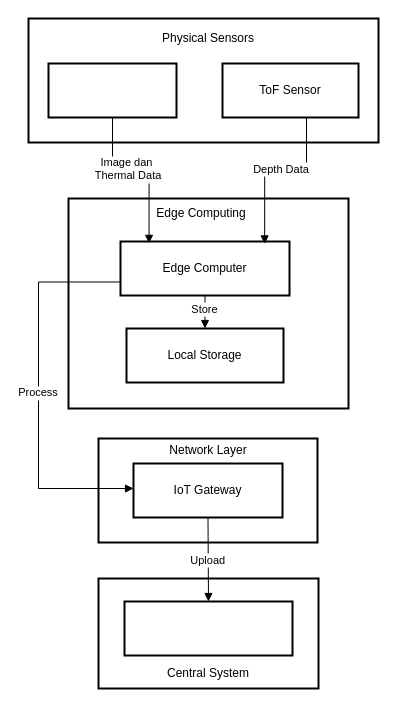
This 396x706 diagram has some shape labels left out. The shapes that lost their labels are listed below. From the top down, each one's box as (x1, y1, x2, y2) in pixels, then its label:
(47, 62, 177, 118): Industrial Thermal Camera
(123, 600, 293, 656): Cloud Platform
